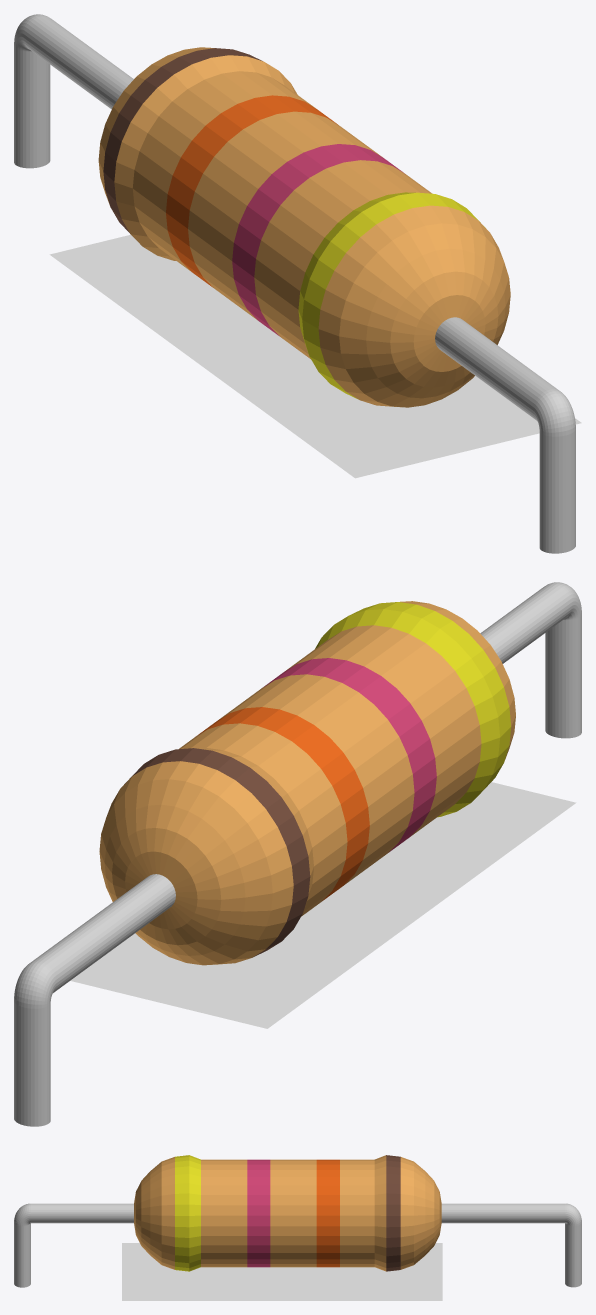
The picture shows the model from 3 angles, top to bottom: view 1: azimuth 30°, elevation 25°; view 2: azimuth 150°, elevation 25°; view 3: azimuth 270°, elevation 25°; orthographic projection. The views are drawn at different scales.
Visible parts, largest first — view 1: R_28, R_28_plane; view 2: R_28, R_28_plane; view 3: R_28, R_28_plane.
Part boxes in pixels (box(x1,y1,x2,y2)): R_28: box(14, 14, 575, 553); R_28_plane: box(49, 234, 581, 478); R_28: box(14, 582, 581, 1126); R_28_plane: box(70, 782, 576, 1028); R_28: box(14, 1155, 581, 1287); R_28_plane: box(122, 1243, 442, 1300).
Bounding box in the file's own units: 0.0161 × 0.0159 × 0.0664.
